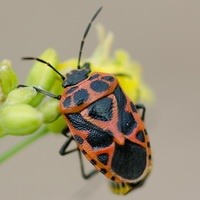insect: (23, 7, 151, 194)
